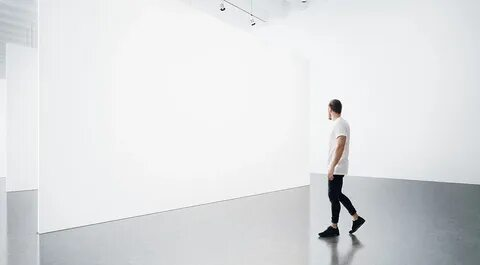awake: (317, 98, 366, 238)
